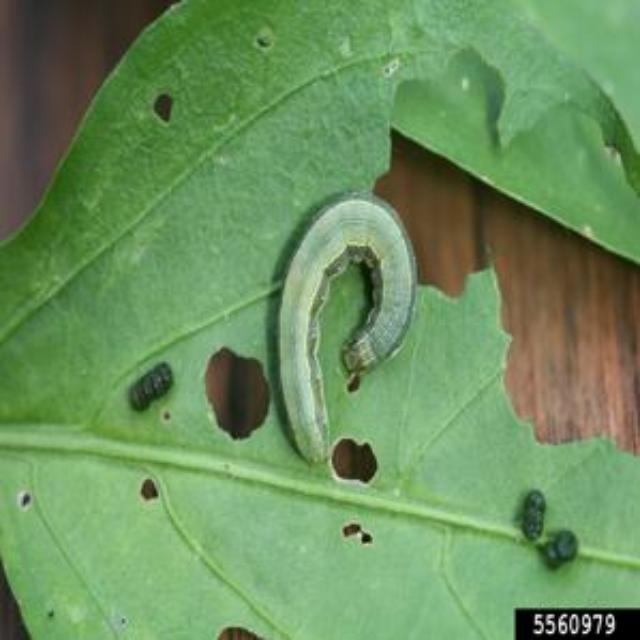Beet armyworm: (232, 162, 436, 482)
